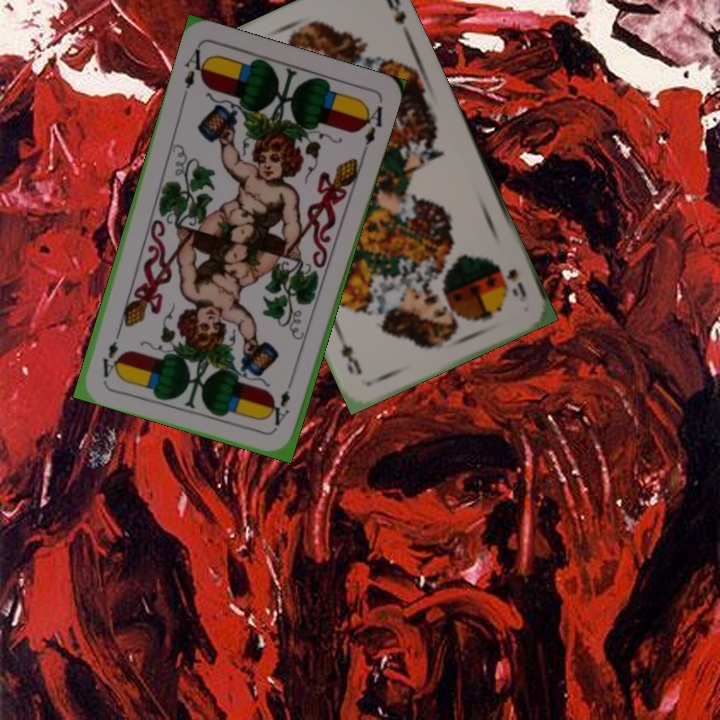EA: (270, 374, 296, 432), (180, 44, 211, 91)
SO: (494, 259, 529, 301)
